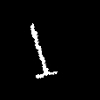double_crochet: (31, 24, 56, 77)
